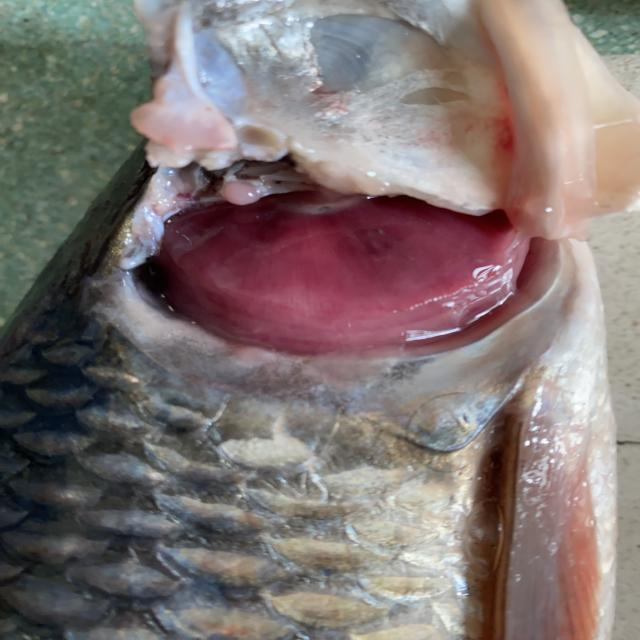Fresh: (74, 142, 621, 412)
